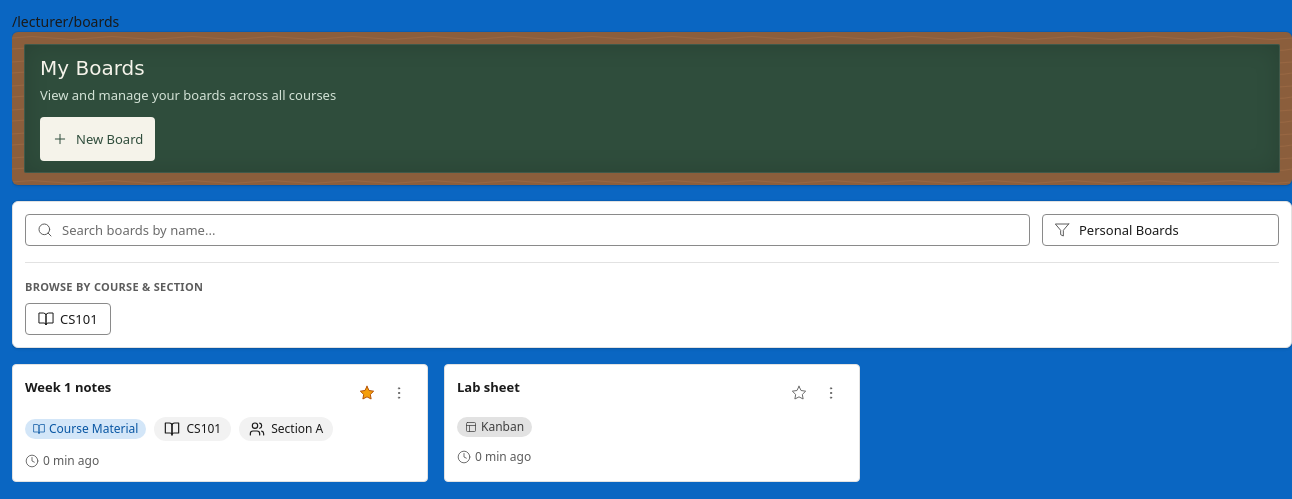
Test: LecturerBoardsPage › a course chip filters the list and reports its pressed state; a section narrows it further
This screenshot has width=1292, height=499.
Click the button "CS101".
click(68, 319)  # box [25, 303, 111, 335]
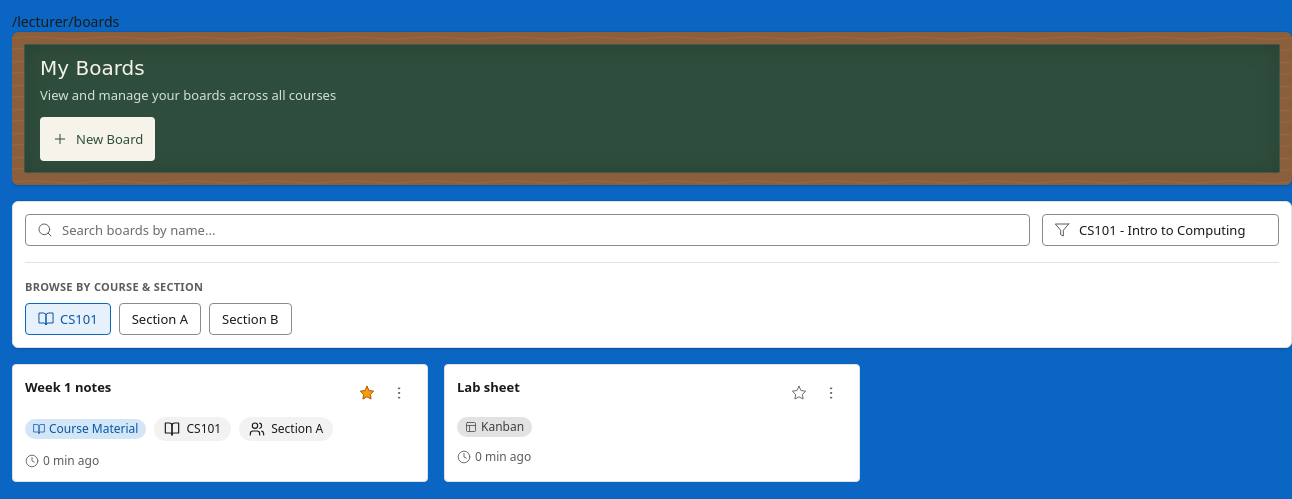
expect the button "CS101" is pressed: met, box [25, 303, 111, 335]
Click the button "Section B".
click(250, 319)  # box [209, 303, 292, 335]
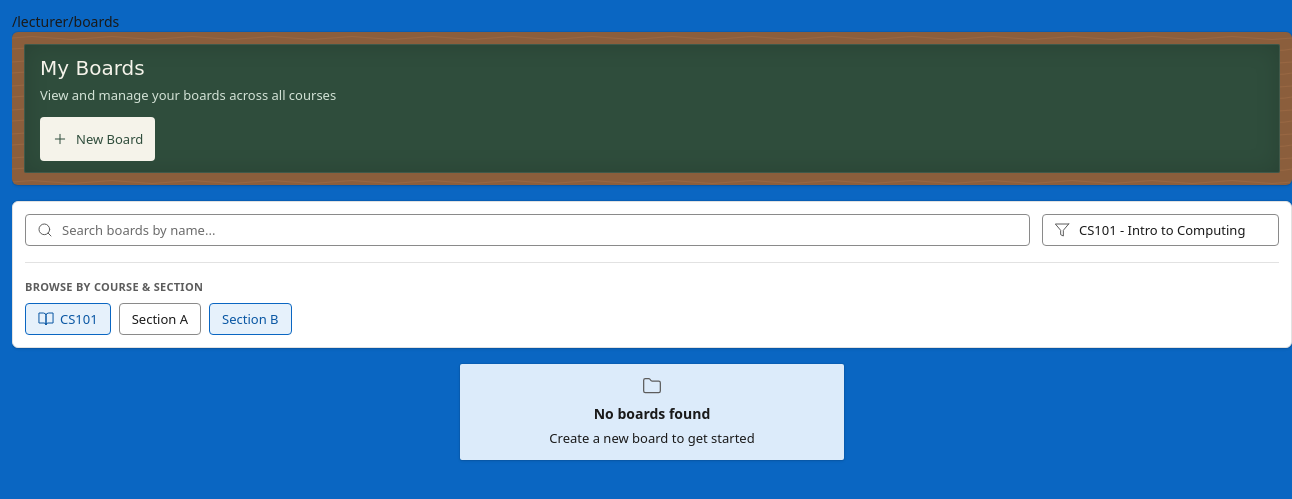
expect the heading "No boards found" is shown: met, box [594, 404, 710, 424]
expect the text "Create a new board to get started" is shown: met, box [549, 428, 755, 448]
